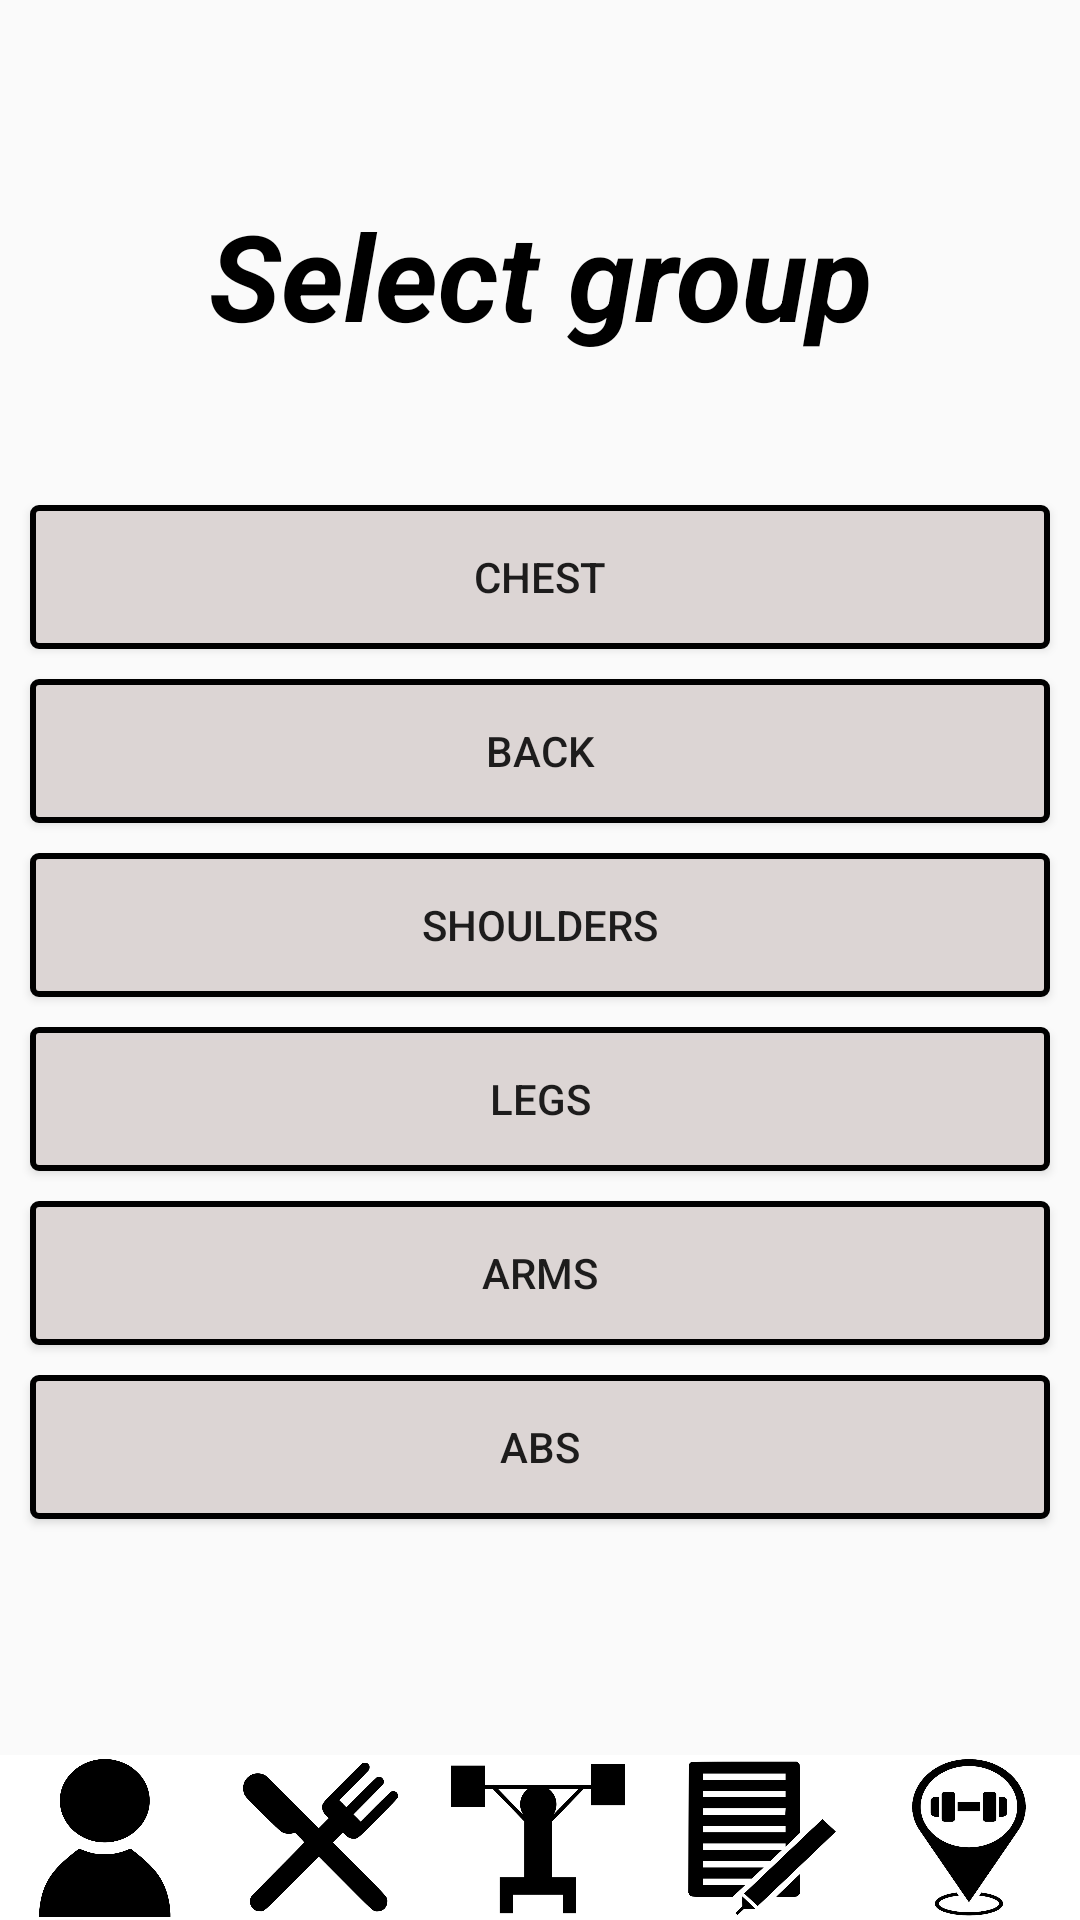

Icon click points for this 1080px x 1920px phone screenshot, format (x,y):
exercise: (538,1839)
food: (320,1837)
map: (969,1837)
notes: (762,1838)
profile: (105,1838)
